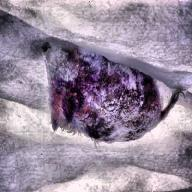boar: (28, 29, 186, 155)
